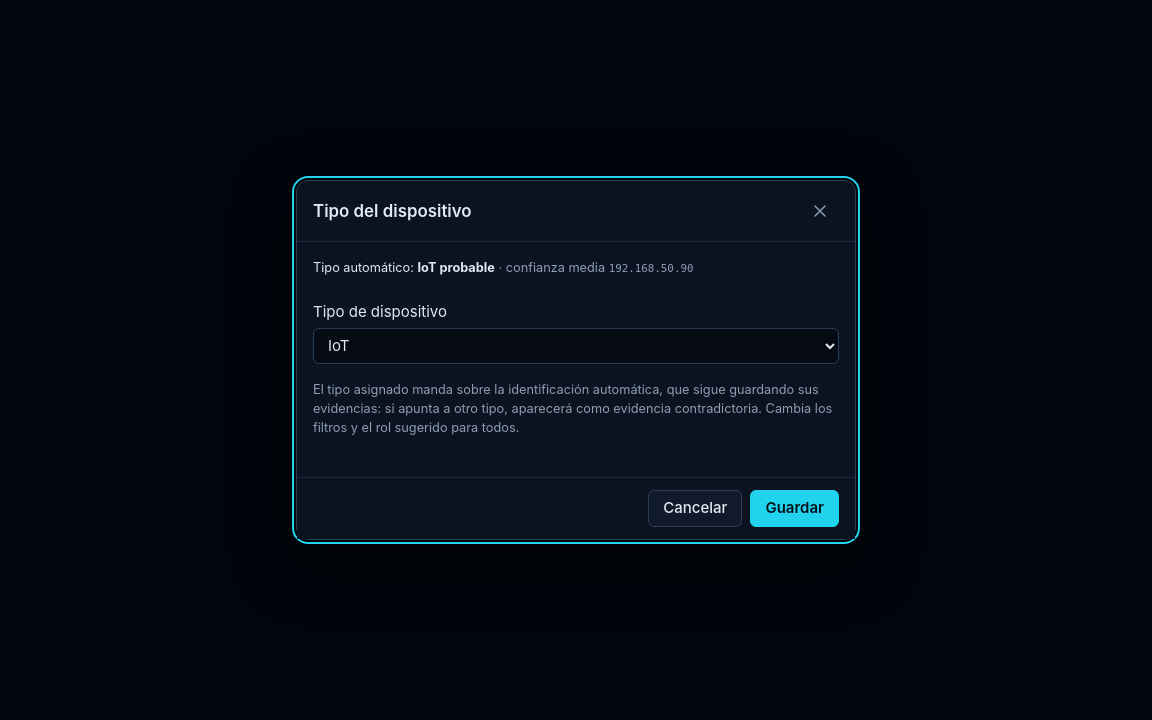
Test: tipo manual del activo › un 409 por otro cambio de identidad (la etiqueta) también se explica
Select "NAS" in the dropdown labelled "Tipo de dispositivo" at (576,346), box [313,328,839,364]
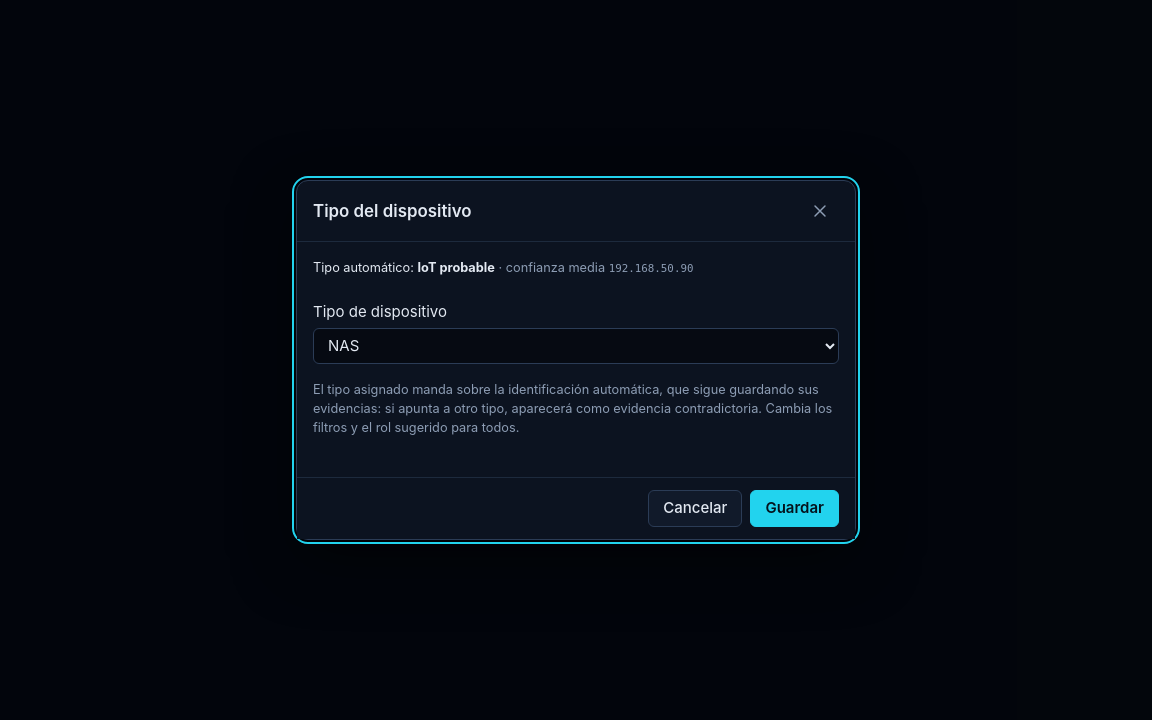
Click the button "Guardar".
click(795, 509)  # box [750,490,839,527]
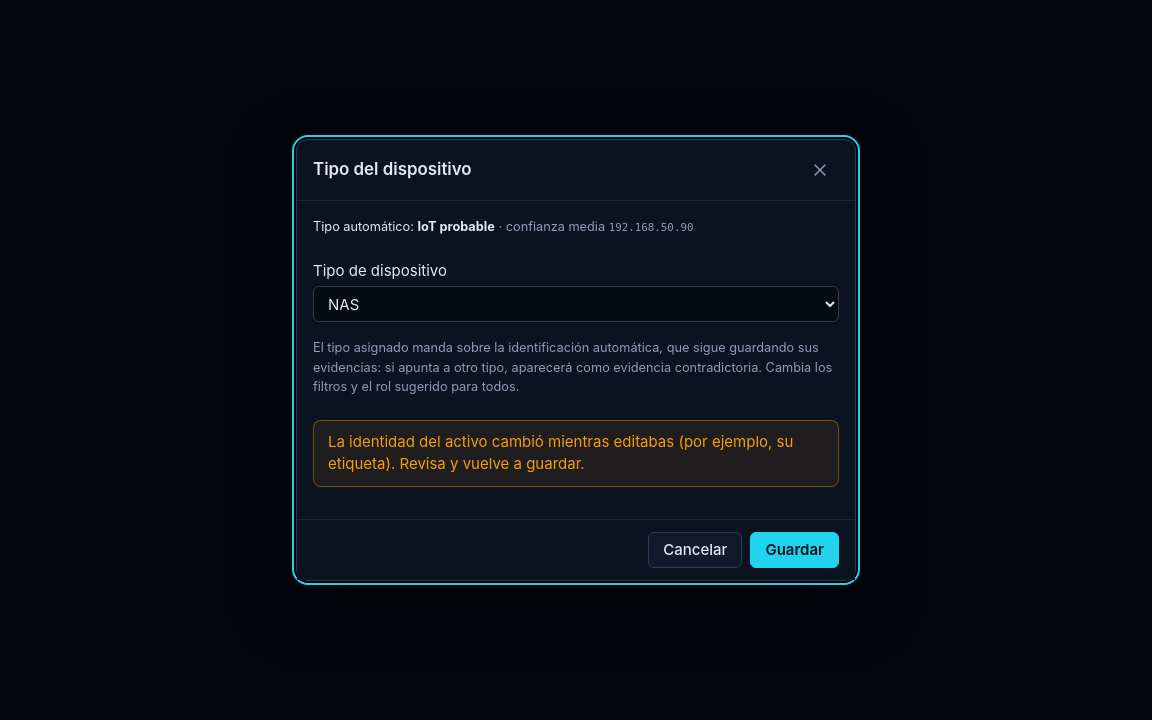
Expected: the message shows "La identidad del activo cambió", [328,432,793,473]
